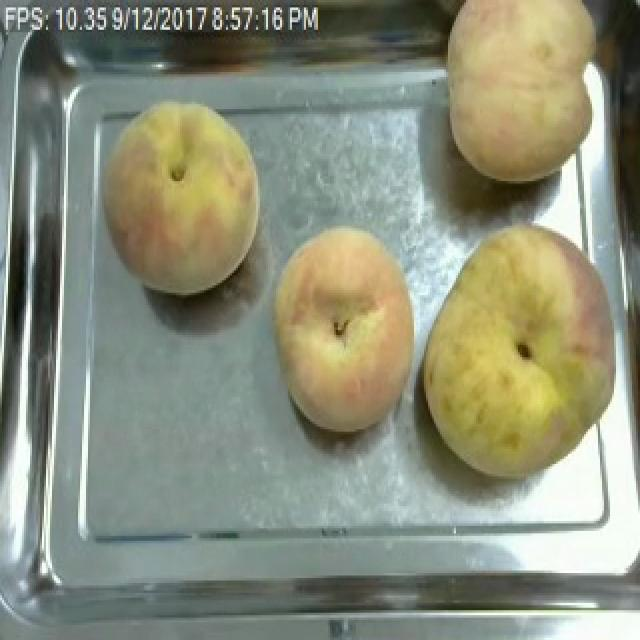Fruit: (410, 211, 640, 489), (92, 86, 270, 302), (264, 218, 426, 439), (434, 0, 616, 191)
